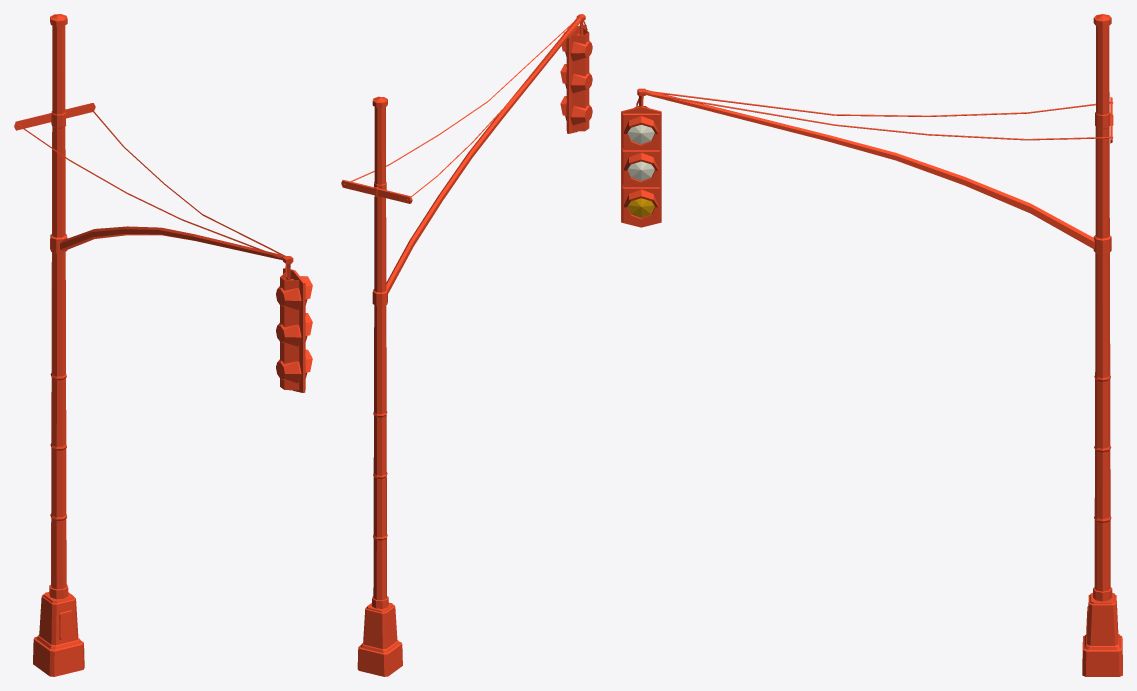
File: SM_Light_A_City.fbx
3 renders of one model, left to right at view 1: azimuth 30°, elevation 25°; view 2: azimuth 150°, elevation 25°; view 3: azimuth 270°, elevation 25°, orthographic. The views are drawn at different scales.
Parts seen in each view (by area): view 1: SM_Light_A_City; view 2: SM_Light_A_City; view 3: SM_Light_A_City.
Part boxes in pixels (x1=…): SM_Light_A_City: x1=14, y1=14, x2=312, y2=676; SM_Light_A_City: x1=341, y1=14, x2=592, y2=676; SM_Light_A_City: x1=621, y1=14, x2=1122, y2=676.
Size of the model in its own units: 0.8104 by 6.17 by 4.29.
